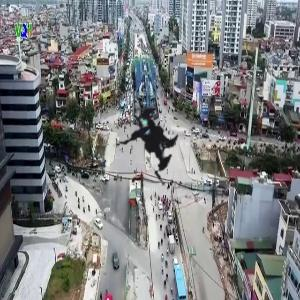drone: (46, 29, 256, 239)
